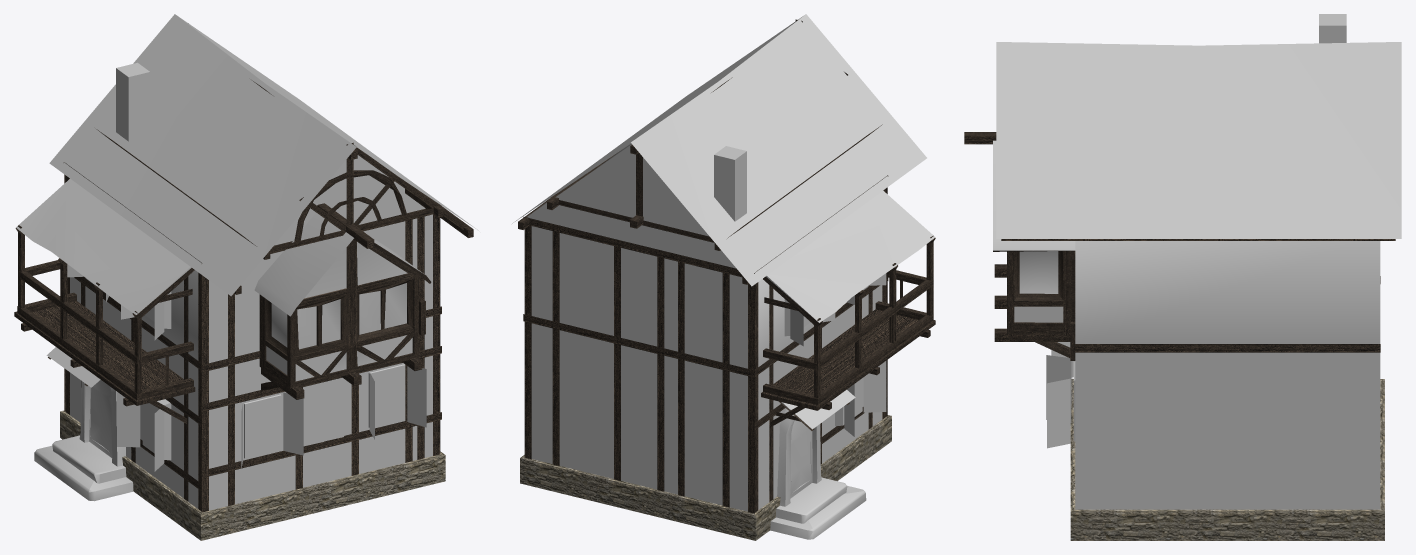
The model's file is house4_LOD1.fbx.
3 renders of one model, left to right at view 1: azimuth 30°, elevation 25°; view 2: azimuth 150°, elevation 25°; view 3: azimuth 270°, elevation 25°, orthographic. The views are drawn at different scales.
Visible parts, largest first — view 1: Mesh Object; view 2: Mesh Object; view 3: Mesh Object.
Part boxes in pixels (box(x1,y1,x2,y2)): Mesh Object: box(14, 14, 478, 540); Mesh Object: box(512, 14, 935, 540); Mesh Object: box(964, 14, 1401, 540).
Size of the model in its own units: 9.97 by 12.16 by 11.12.
